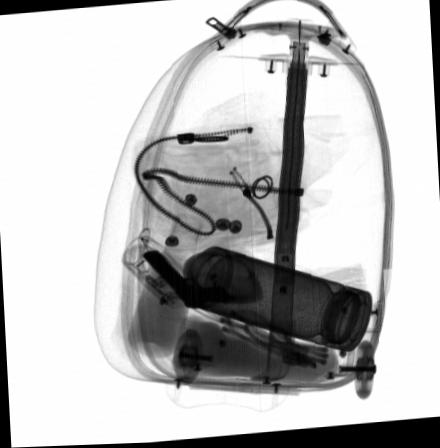Gun: (141, 251, 230, 310)
